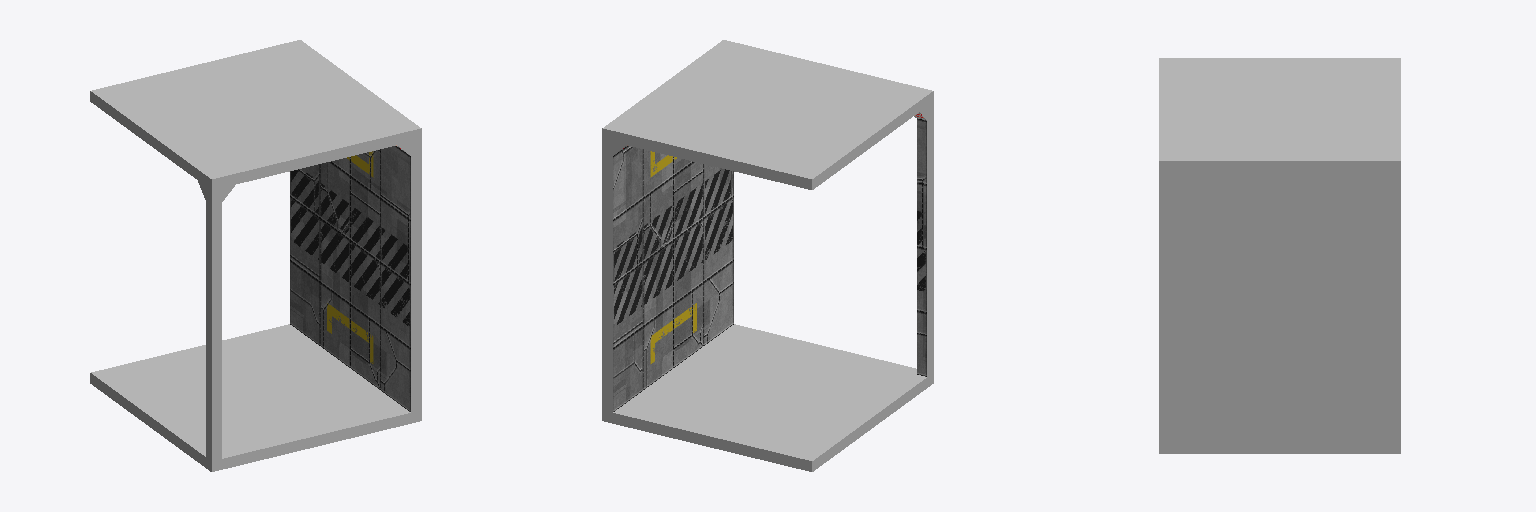
3 views of the same model, side by side, from view 1: azimuth 30°, elevation 25°; view 2: azimuth 150°, elevation 25°; view 3: azimuth 270°, elevation 25° (orthographic).
Visible parts, largest first — view 1: Body.013; view 2: Body.013; view 3: Body.013.
Part boxes in pixels (left/top/right/bottom): Body.013: left=90, top=40, right=421, bottom=471; Body.013: left=602, top=40, right=933, bottom=471; Body.013: left=1159, top=58, right=1400, bottom=453.
Size of the model in its own units: 1.5 by 2 by 1.5.
3 materials, 2 textured.